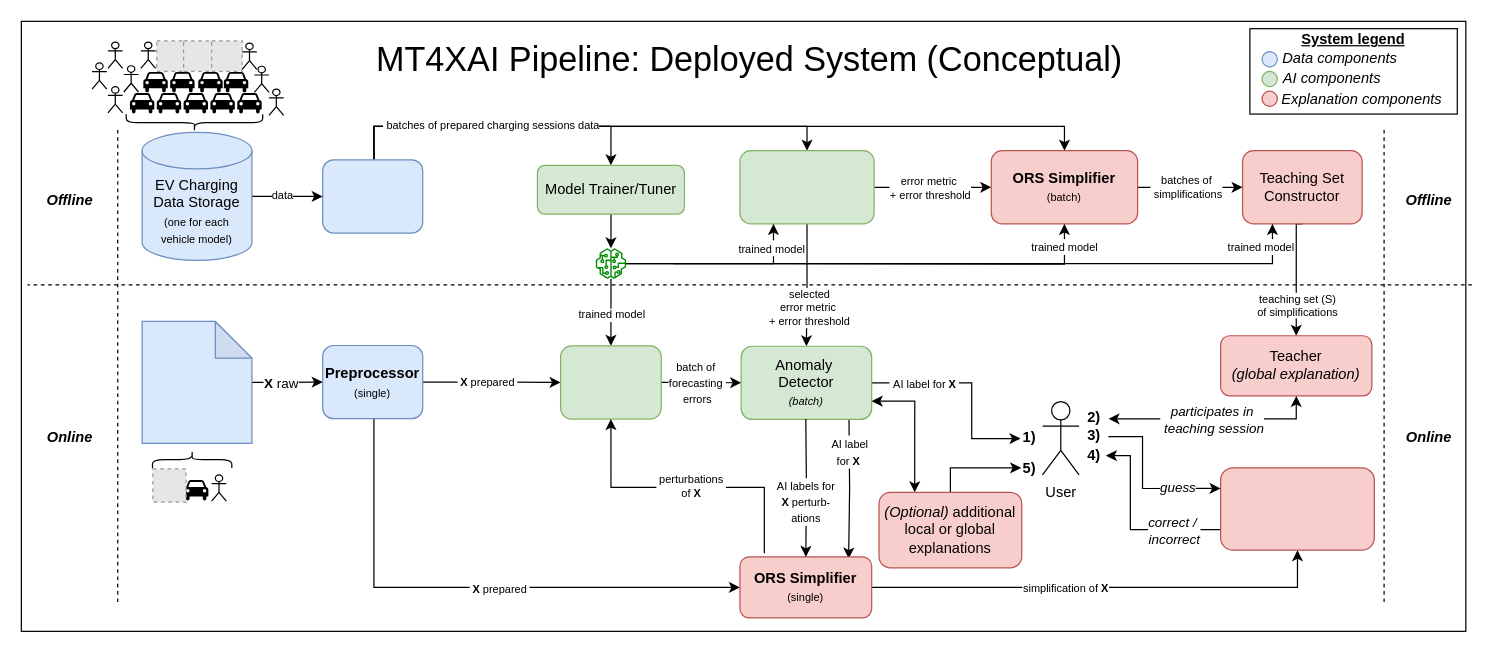
This 1495x653 diagram has some shape labels left out. Grey dashed boxes stand in for pictures. Each missing label, with the centre of its shape:
Anomaly Detection Metric Selector: (x=806, y=186)
Model Inference (batch): (x=610, y=382)
Preprocessor (batch): (x=372, y=196)
User Charging Session X: (x=196, y=381)
User simulates AI behaviour on X simplified (local explanation): (x=1296, y=508)
